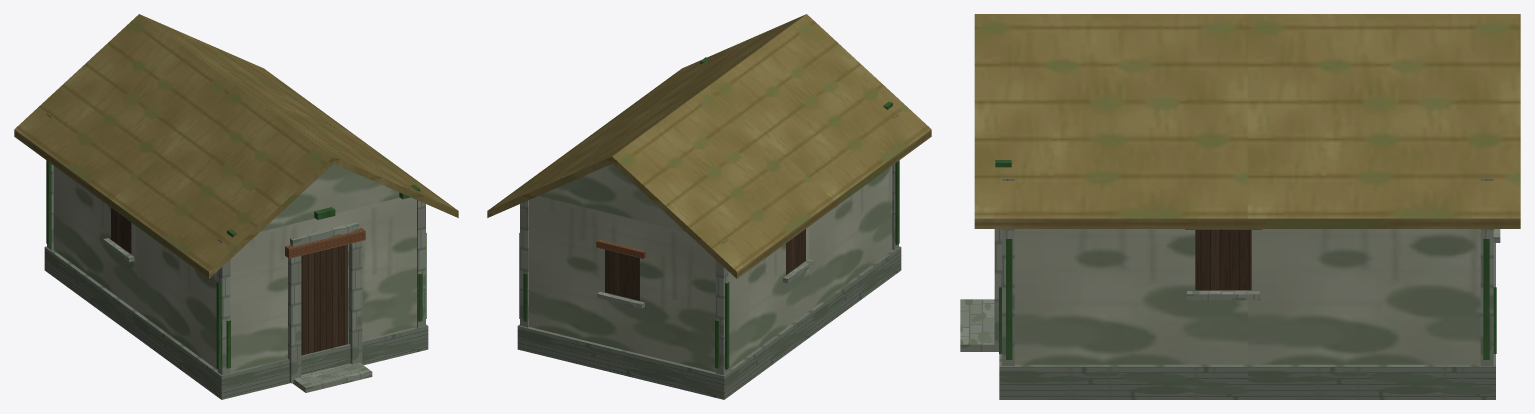
File: ae_jungle_stone_medium_block_lod0.glb
The picture shows the model from 3 angles, left to right: view 1: azimuth 30°, elevation 25°; view 2: azimuth 150°, elevation 25°; view 3: azimuth 270°, elevation 25°; orthographic projection. The views are drawn at different scales.
Visible parts, largest first — view 1: ae_jungle_stone_medium_block_lod0; view 2: ae_jungle_stone_medium_block_lod0; view 3: ae_jungle_stone_medium_block_lod0.
Part boxes in pixels (bbox=[...]): ae_jungle_stone_medium_block_lod0: bbox=[14, 14, 458, 399]; ae_jungle_stone_medium_block_lod0: bbox=[487, 14, 931, 399]; ae_jungle_stone_medium_block_lod0: bbox=[960, 14, 1520, 399].
Size of the model in its own units: 5 by 4.3 by 6.93.
1 material, 1 textured.
